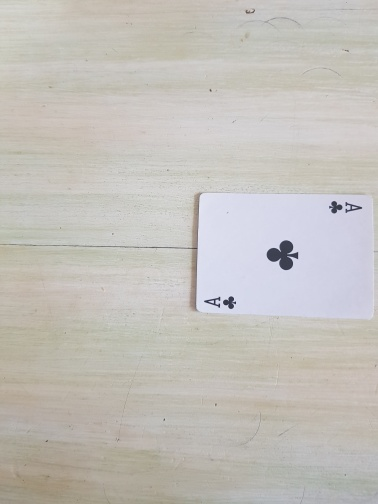ace: (194, 191, 377, 321)
